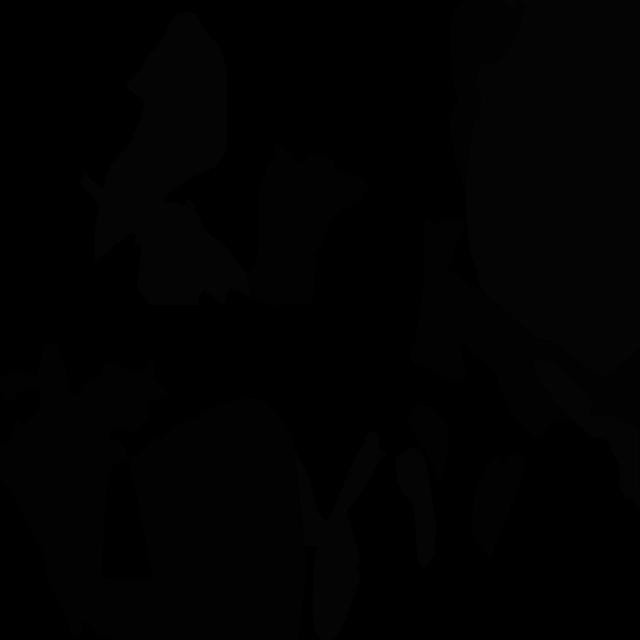cardboard: (0, 343, 193, 640), (128, 397, 306, 640), (418, 257, 640, 437), (247, 141, 370, 307), (448, 0, 528, 193), (471, 451, 526, 559), (408, 402, 450, 483), (410, 291, 443, 377), (423, 218, 466, 267)
soft_plastic: (466, 0, 640, 376), (80, 12, 227, 262), (294, 431, 387, 640), (532, 358, 640, 510), (133, 198, 252, 305), (396, 447, 436, 568)
